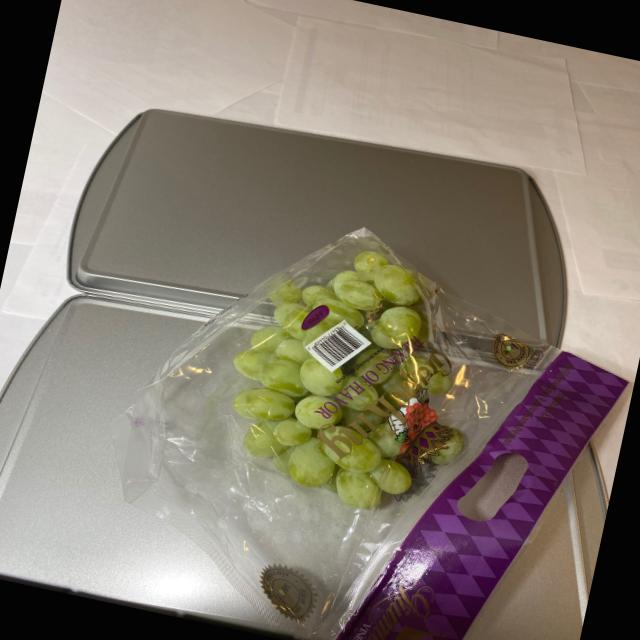grapes: (204, 218, 508, 534)
